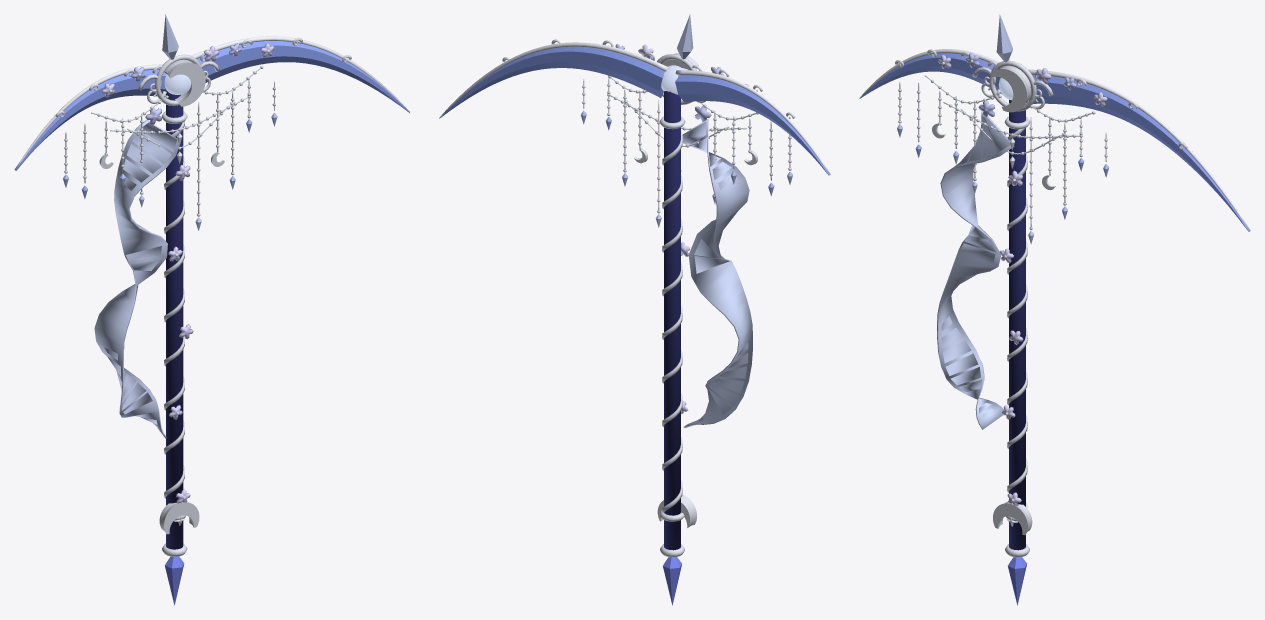
File: MoonlitPickaxe.glb
The picture shows the model from 3 angles, left to right: view 1: azimuth 30°, elevation 25°; view 2: azimuth 150°, elevation 25°; view 3: azimuth 330°, elevation 25°; orthographic projection.
Visible parts, largest first — view 1: MoonlitPickaxe_Glass, MoonlitPickaxe_Metal, MoonlitPickaxe_SmoothPlastic; view 2: MoonlitPickaxe_Glass, MoonlitPickaxe_Metal, MoonlitPickaxe_SmoothPlastic; view 3: MoonlitPickaxe_Glass, MoonlitPickaxe_Metal, MoonlitPickaxe_SmoothPlastic.
Part boxes in pixels (x1,y1,x2,y2): MoonlitPickaxe_Glass: [14, 14, 409, 605]; MoonlitPickaxe_Metal: [15, 36, 409, 556]; MoonlitPickaxe_SmoothPlastic: [101, 43, 274, 549]; MoonlitPickaxe_Glass: [439, 14, 830, 605]; MoonlitPickaxe_Metal: [439, 39, 830, 557]; MoonlitPickaxe_SmoothPlastic: [615, 44, 748, 550]; MoonlitPickaxe_Glass: [859, 15, 1250, 605]; MoonlitPickaxe_Metal: [859, 49, 1249, 557]; MoonlitPickaxe_SmoothPlastic: [938, 52, 1107, 550].
Bounding box in the file's own units: 3.13 × 4.53 × 0.3288.
4 materials, 4 textured.
